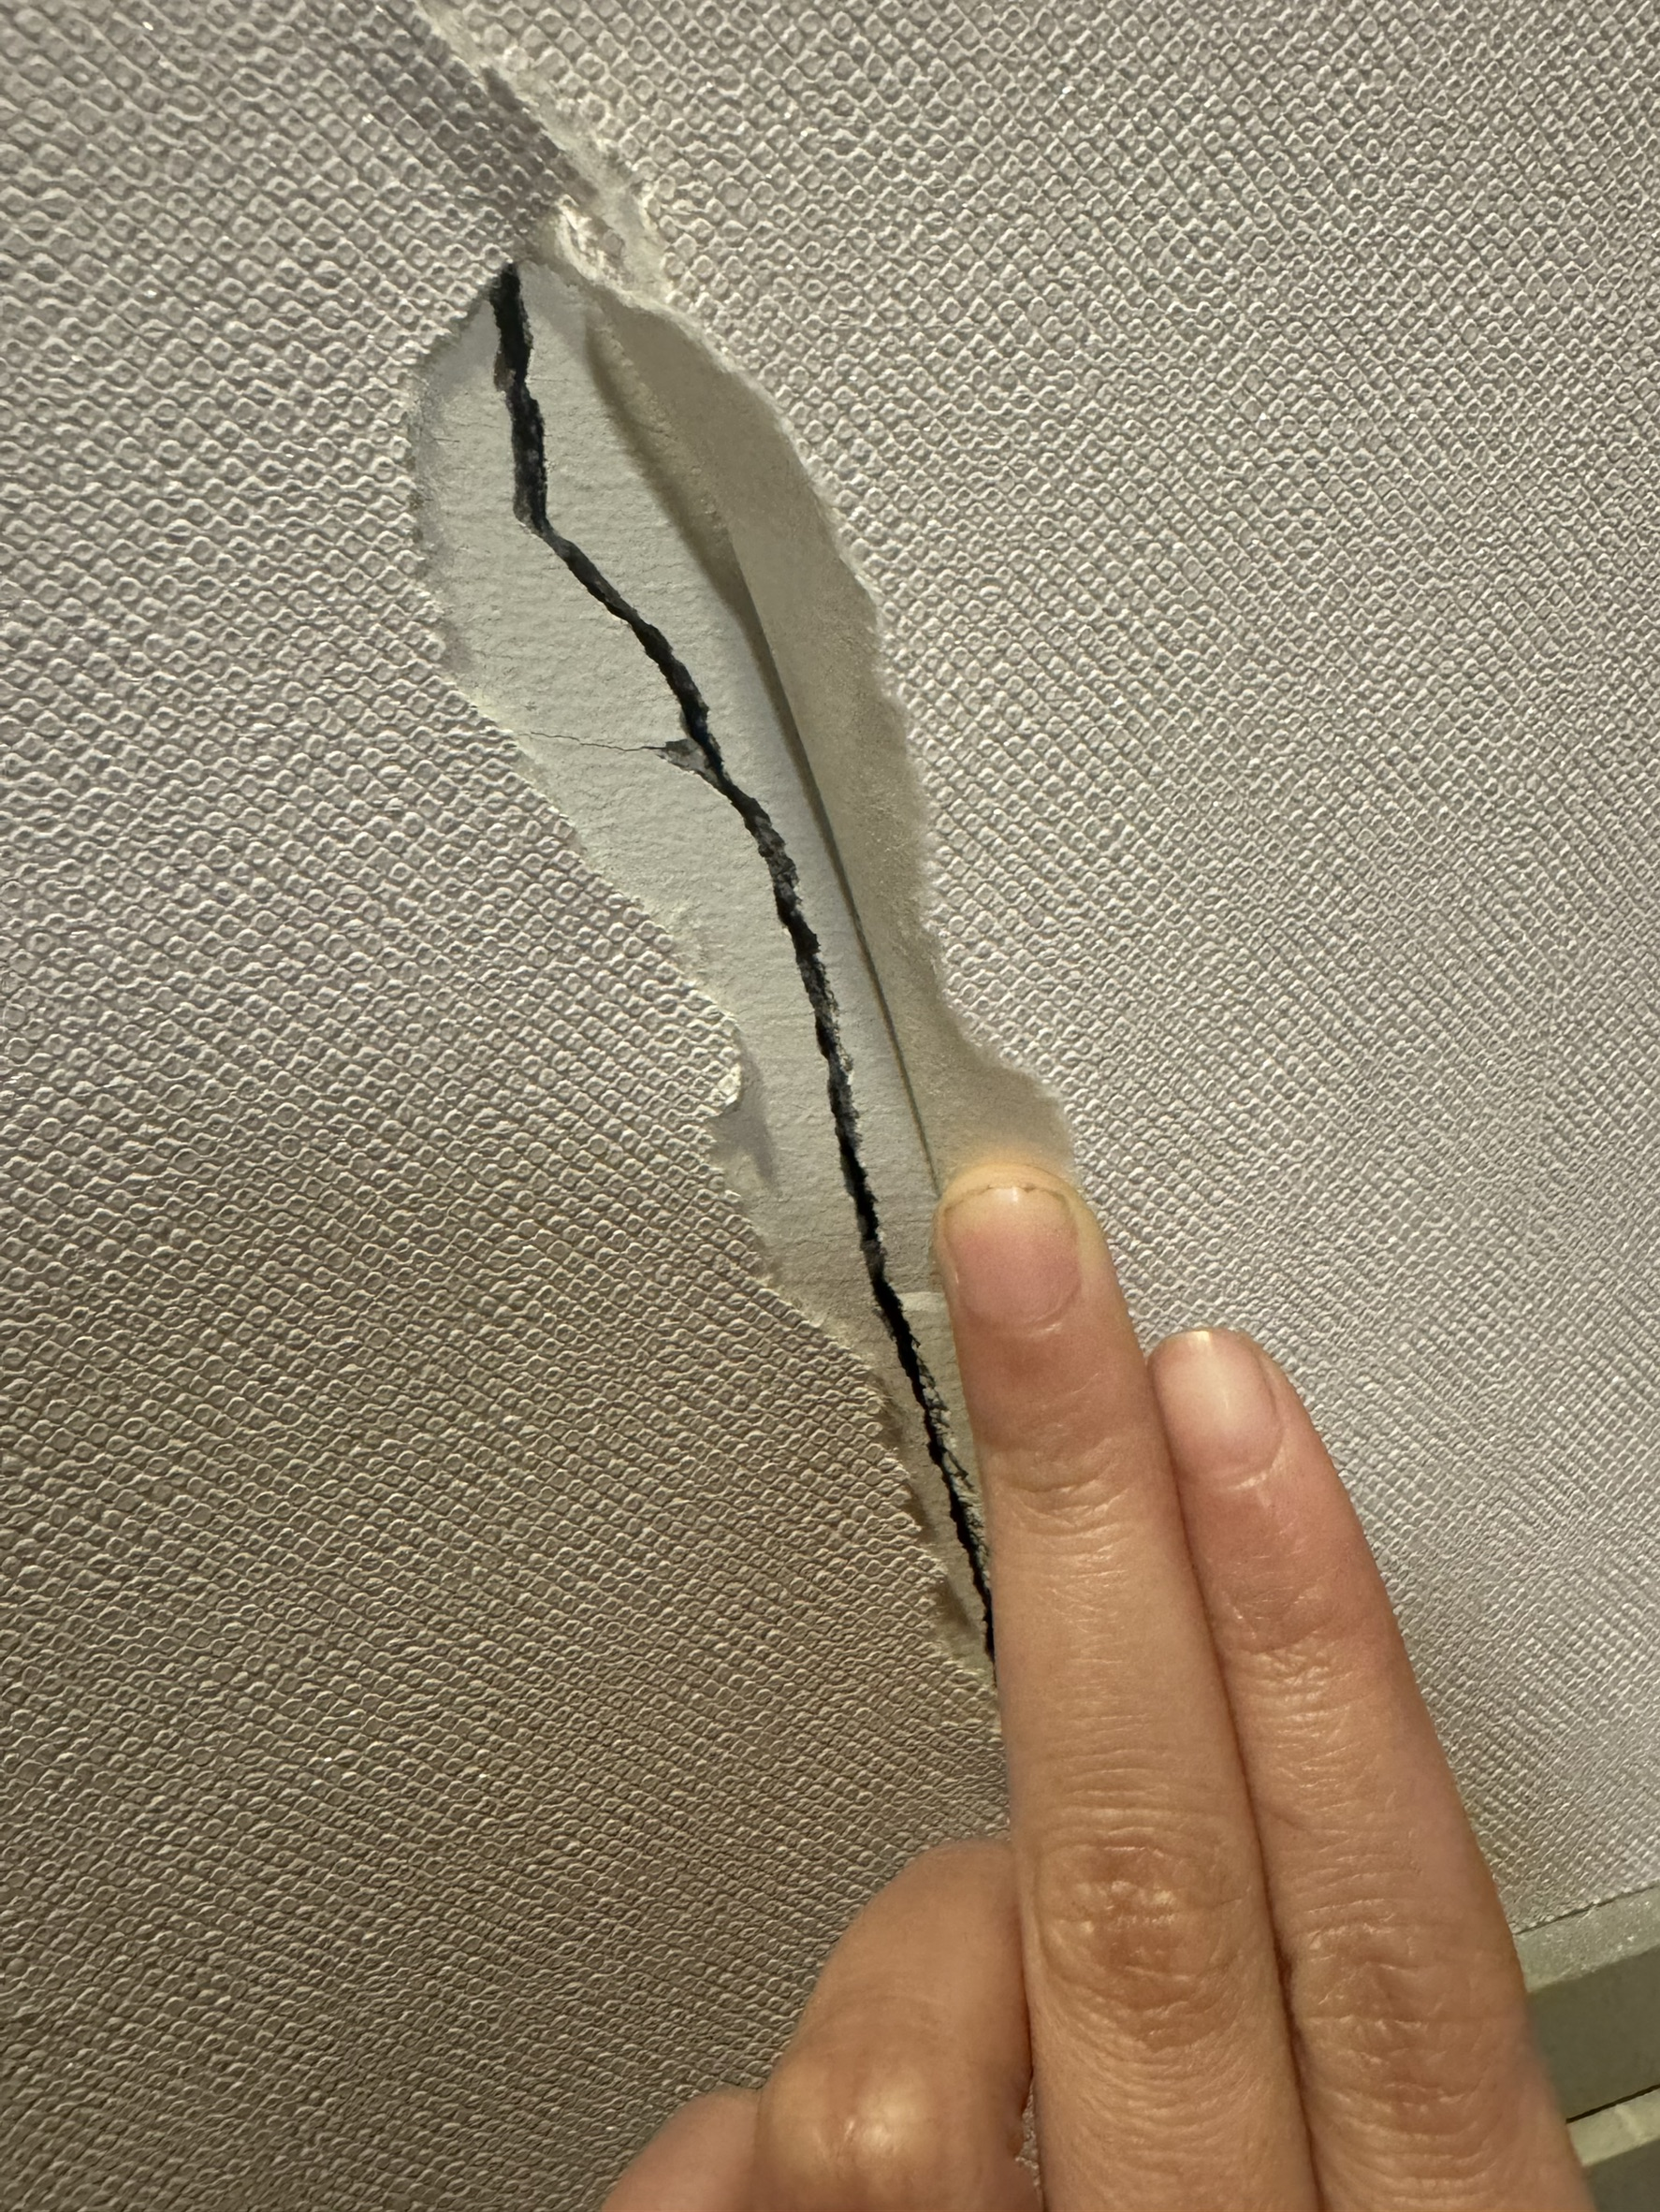Medium: (307, 143, 1144, 1149)
